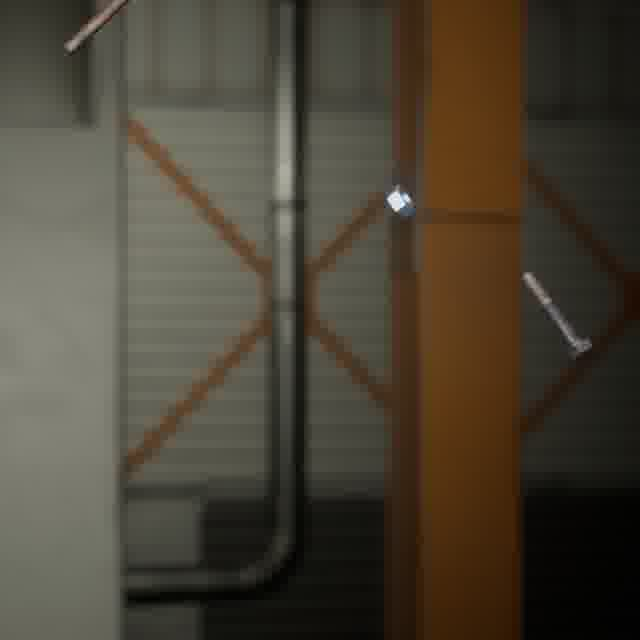bolt: (516, 266, 598, 366), (58, 0, 135, 60)
nut: (382, 180, 419, 222)
